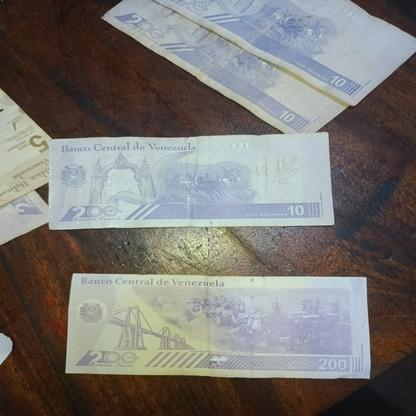five-front-vef: (0, 90, 74, 209)
ten-back-vef: (98, 0, 374, 132), (121, 0, 416, 107), (46, 132, 336, 230), (0, 185, 52, 250)
two_hundred-back-vef: (65, 273, 371, 378)
